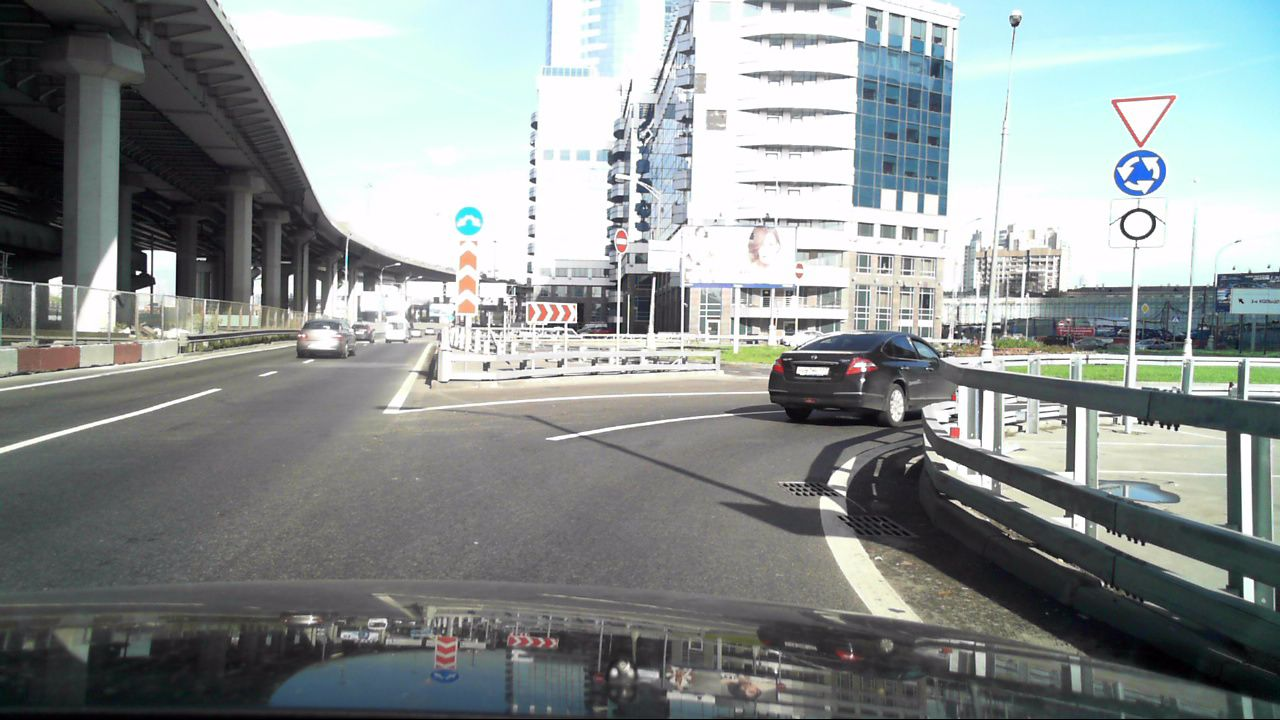Round-About: (1112, 148, 1169, 199)
